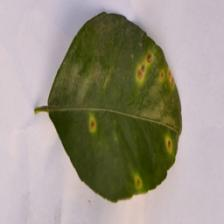canker: (80, 46, 184, 186)
